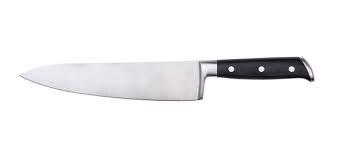Knife: (18, 56, 314, 101)
